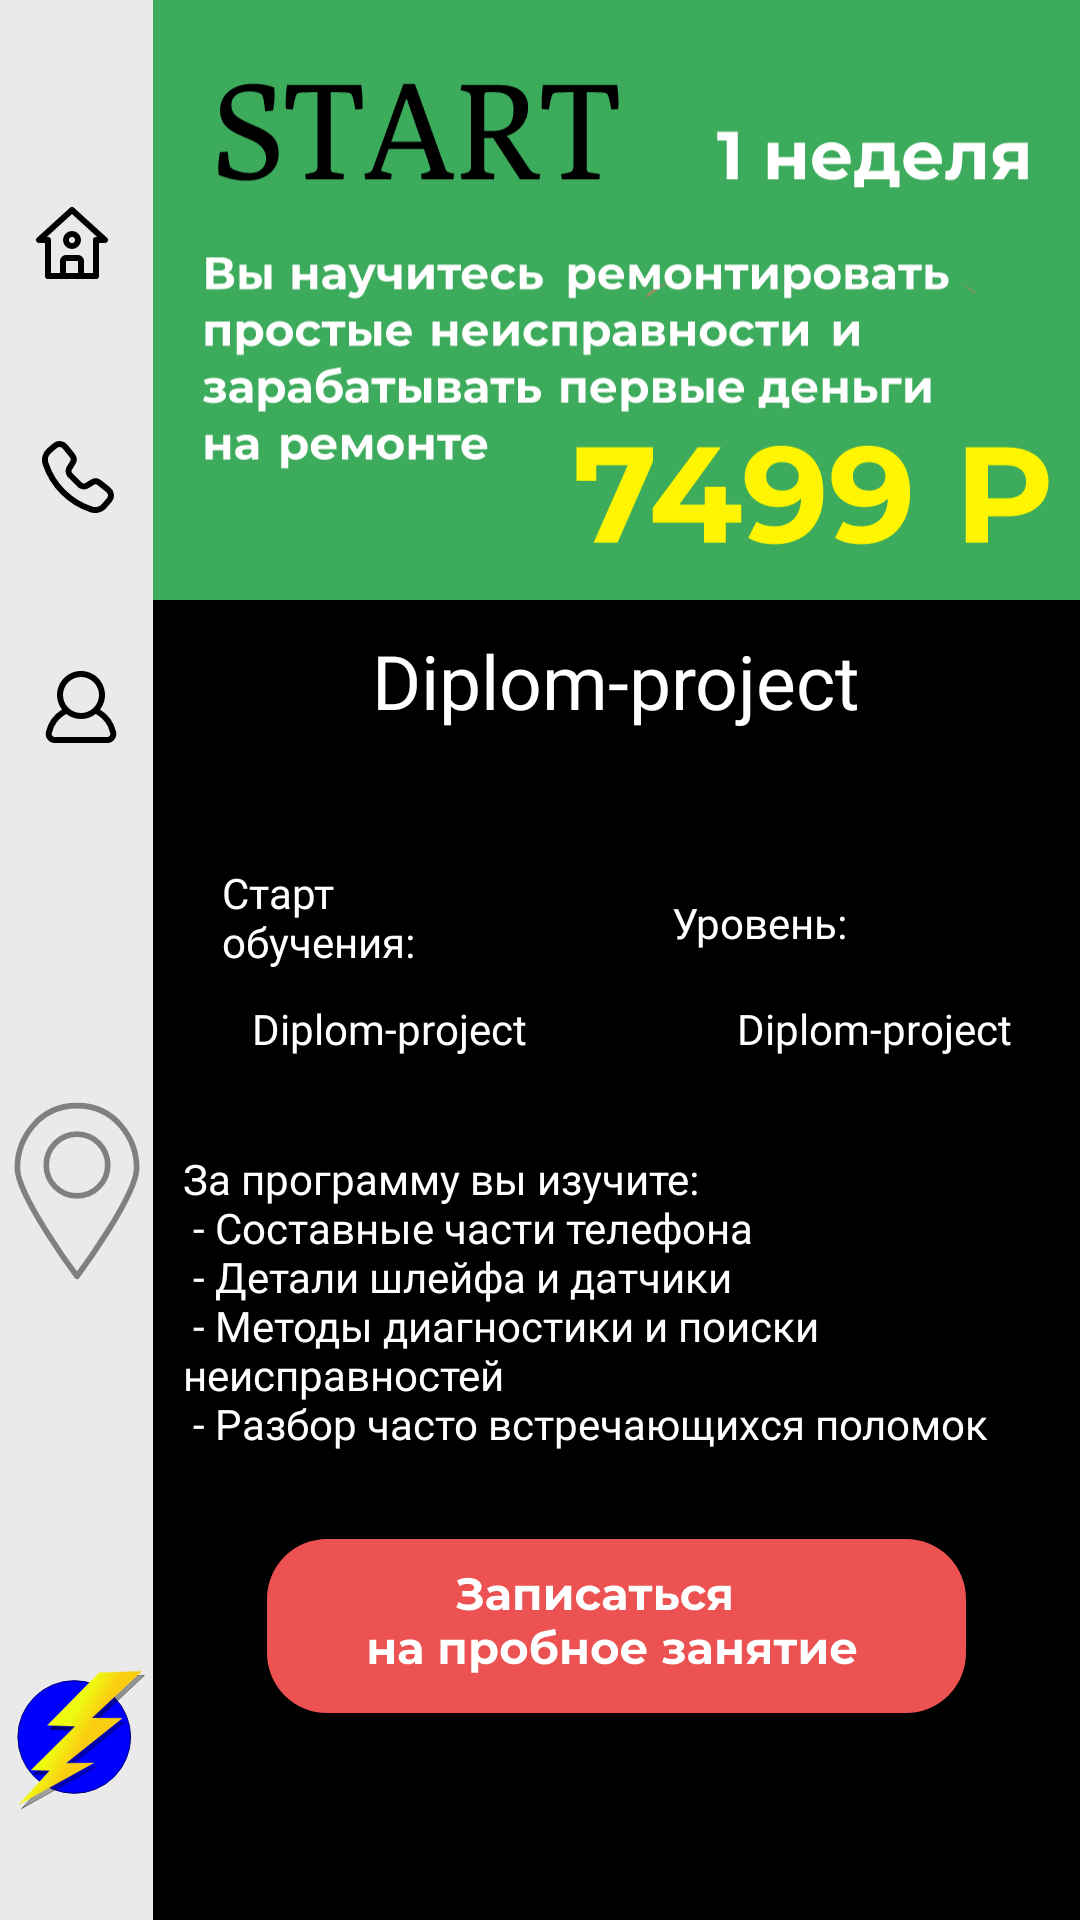

Locate icon controls on the screen. Image size 1080x1920, boxes as (x1, y1, x2, y2).
contacts: (42, 441, 114, 513)
home lite: (36, 207, 108, 279)
Light: (17, 1671, 145, 1809)
navigation: (14, 1102, 140, 1279)
